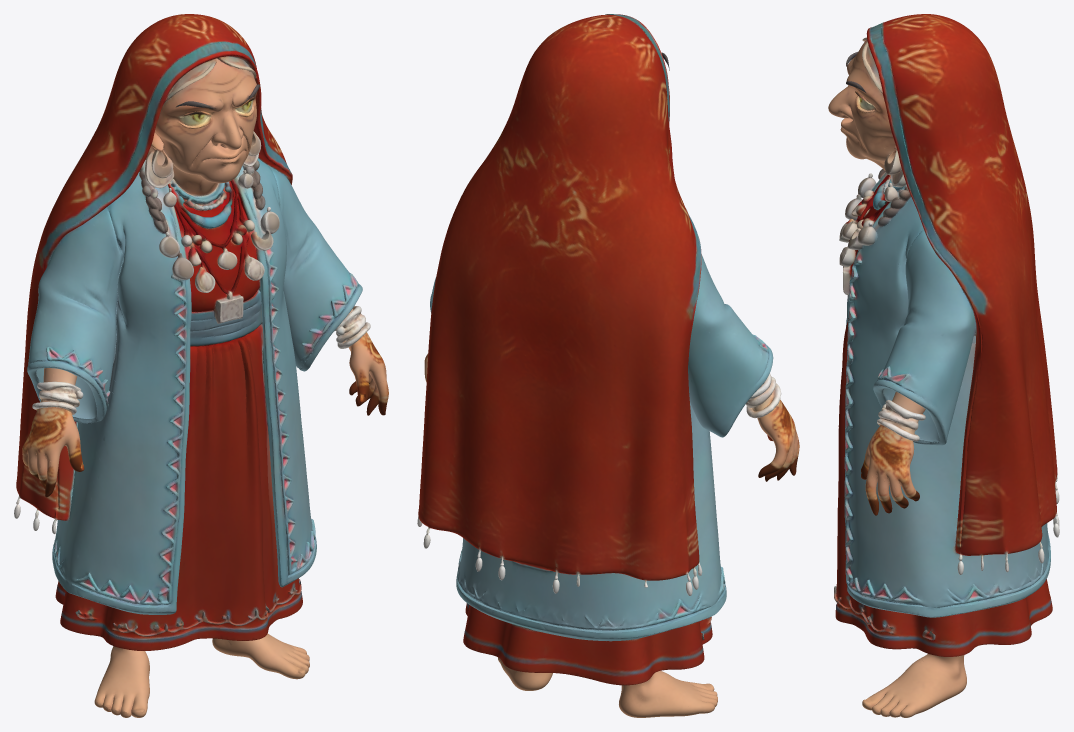
File: chouafa__base_basic_pbr.glb
3 views of the same model, side by side, from view 1: azimuth 30°, elevation 25°; view 2: azimuth 150°, elevation 25°; view 3: azimuth 270°, elevation 25° (orthographic). The views are drawn at different scales.
Parts seen in each view (by area): view 1: model; view 2: model; view 3: model.
Boxes of the visible parts, left/top/right/bottom form: model: left=14, top=14, right=388, bottom=717; model: left=417, top=14, right=799, bottom=717; model: left=828, top=14, right=1059, bottom=717.
Bounding box in the file's own units: 1.08 × 1.9 × 0.6118.
Materials: 1 (1 with a texture image).
